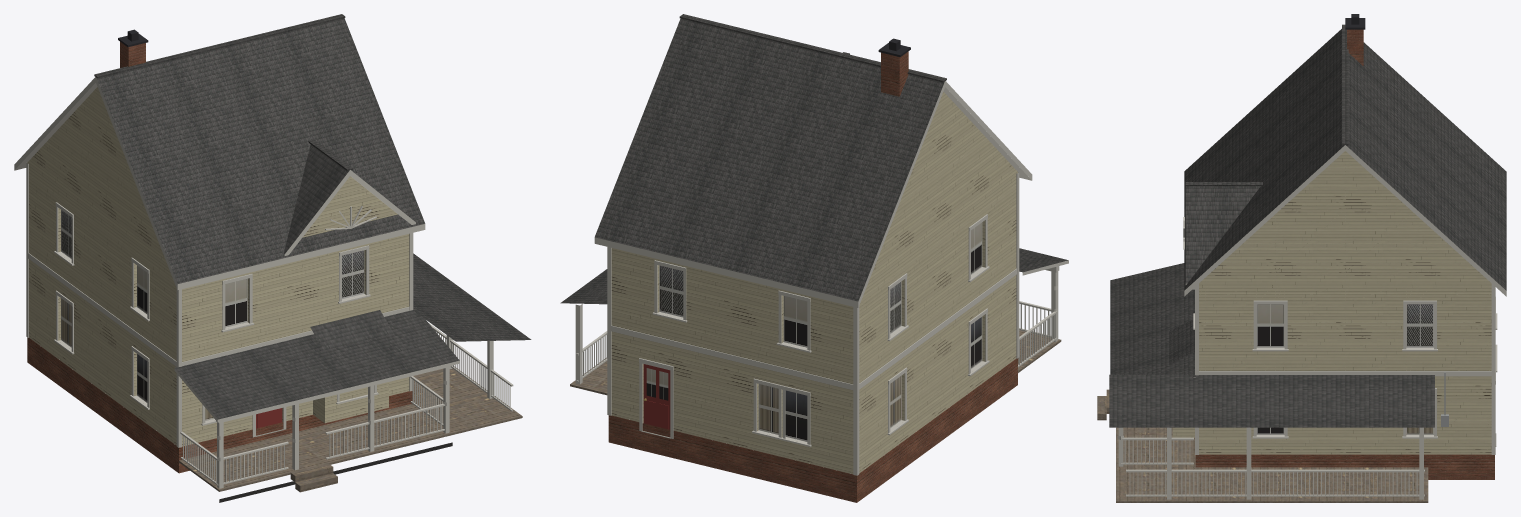
Rendered from town_house_a.gltf.
The picture shows the model from 3 angles, left to right: view 1: azimuth 30°, elevation 25°; view 2: azimuth 150°, elevation 25°; view 3: azimuth 270°, elevation 25°; orthographic projection. The views are drawn at different scales.
Parts seen in each view (by area): view 1: TownHouseA_Roof, TownHouseA_Walls, TownHouseA_Deck, TownHouseA_Trim, TownHouseA_Foundation, TownHouseA_Railing, TownHouseA_Fascia, TownHouseA_Window, TownHouseA_Posts, TownHouseA_BayRoof, TownHouseA_Bay, TownHouseA_Ridge (+3 smaller); view 2: TownHouseA_Walls, TownHouseA_Roof, TownHouseA_Foundation, TownHouseA_Trim, TownHouseA_Window, TownHouseA_Fascia, TownHouseA_Railing, TownHouseA_Deck, TownHouseA_Ridge, TownHouseA_ClosedDoor, TownHouseA_Posts, TownHouseA_Chimney (+1 smaller); view 3: TownHouseA_Roof, TownHouseA_Walls, TownHouseA_Deck, TownHouseA_Railing, TownHouseA_Foundation, TownHouseA_Trim, TownHouseA_Window, TownHouseA_Fascia, TownHouseA_Posts, TownHouseA_Ridge, TownHouseA_BayRoof, TownHouseA_Chimney.
Boxes of the visible parts, box(x1,y1,x2,y2) form: TownHouseA_Roof: box(96, 18, 531, 419); TownHouseA_Walls: box(27, 87, 409, 446); TownHouseA_Deck: box(179, 366, 522, 491); TownHouseA_Trim: box(26, 163, 450, 447); TownHouseA_Foundation: box(27, 337, 412, 473); TownHouseA_Railing: box(180, 322, 513, 485); TownHouseA_Fascia: box(14, 77, 459, 422); TownHouseA_Window: box(61, 210, 364, 420); TownHouseA_Posts: box(217, 335, 493, 488); TownHouseA_BayRoof: box(310, 310, 393, 350); TownHouseA_Bay: box(313, 382, 388, 423); TownHouseA_Ridge: box(94, 14, 353, 170); TownHouseA_Walls: box(611, 92, 1017, 474); TownHouseA_Roof: box(560, 18, 1067, 304); TownHouseA_Foundation: box(608, 358, 1017, 502); TownHouseA_Trim: box(607, 172, 1059, 475); TownHouseA_Window: box(646, 222, 982, 441); TownHouseA_Fascia: box(594, 81, 1068, 307); TownHouseA_Railing: box(576, 301, 1057, 381); TownHouseA_Deck: box(570, 330, 1061, 395); TownHouseA_Ridge: box(679, 14, 946, 82); TownHouseA_ClosedDoor: box(643, 364, 670, 429); TownHouseA_Posts: box(575, 271, 1058, 384); TownHouseA_Chimney: box(881, 51, 908, 96); TownHouseA_Roof: box(1109, 29, 1506, 427); TownHouseA_Walls: box(1199, 151, 1491, 454); TownHouseA_Deck: box(1116, 427, 1428, 502); TownHouseA_Railing: box(1121, 437, 1424, 496); TownHouseA_Foundation: box(1195, 454, 1494, 479); TownHouseA_Trim: box(1193, 284, 1497, 454); TownHouseA_Window: box(1256, 304, 1433, 434); TownHouseA_Fascia: box(1184, 145, 1506, 377); TownHouseA_Posts: box(1118, 427, 1423, 499); TownHouseA_Ridge: box(1185, 24, 1348, 186); TownHouseA_BayRoof: box(1169, 319, 1194, 364); TownHouseA_Chimney: box(1347, 29, 1363, 65).
Size of what is drawn, in the model's own units: 10.85 by 12.25 by 12.31.
2 materials, 2 textured.
